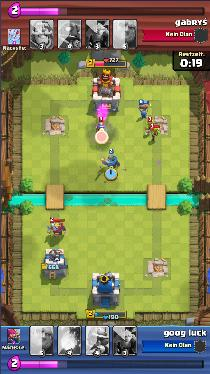ally_knight: (100, 149, 120, 170)
ally_wallbreaker: (138, 100, 151, 118)
enemy_goblin: (149, 127, 160, 142), (145, 120, 155, 131)
enemy_knight: (45, 221, 66, 239)
enemy_musketeer: (96, 120, 106, 137)
